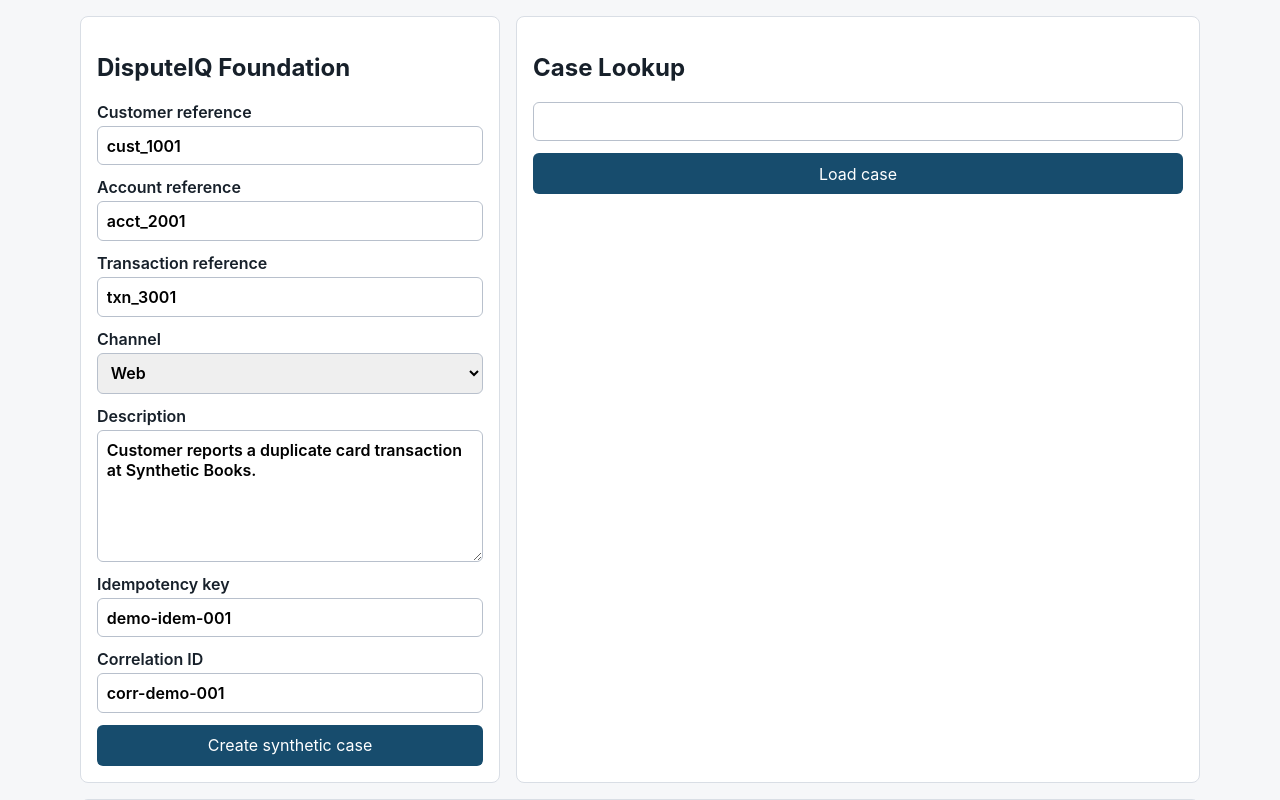
Scenario: validates required fields before submit
Clear the field labelled "Transaction reference" at [290, 297], box x1=97 y1=277 x2=483 y2=317
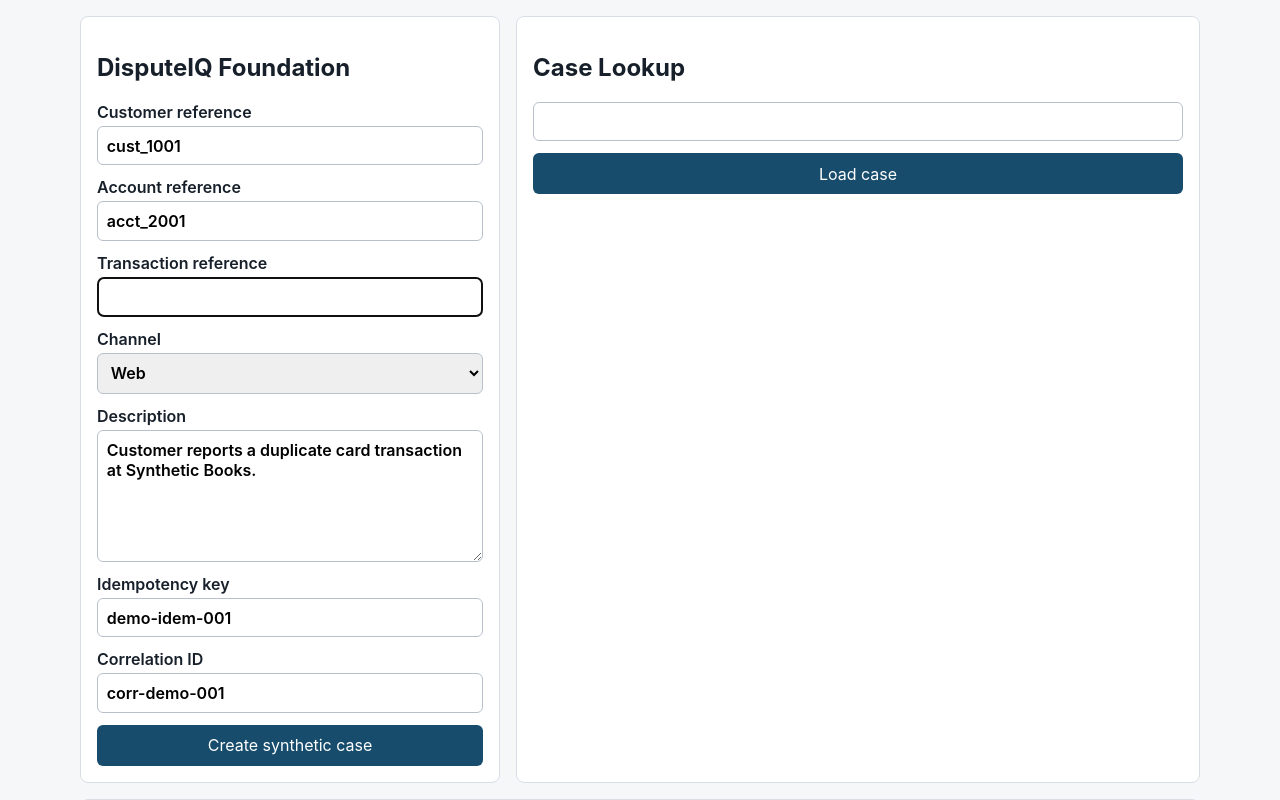
Click the button "Create synthetic case" at [290, 745], box x1=97 y1=725 x2=483 y2=766
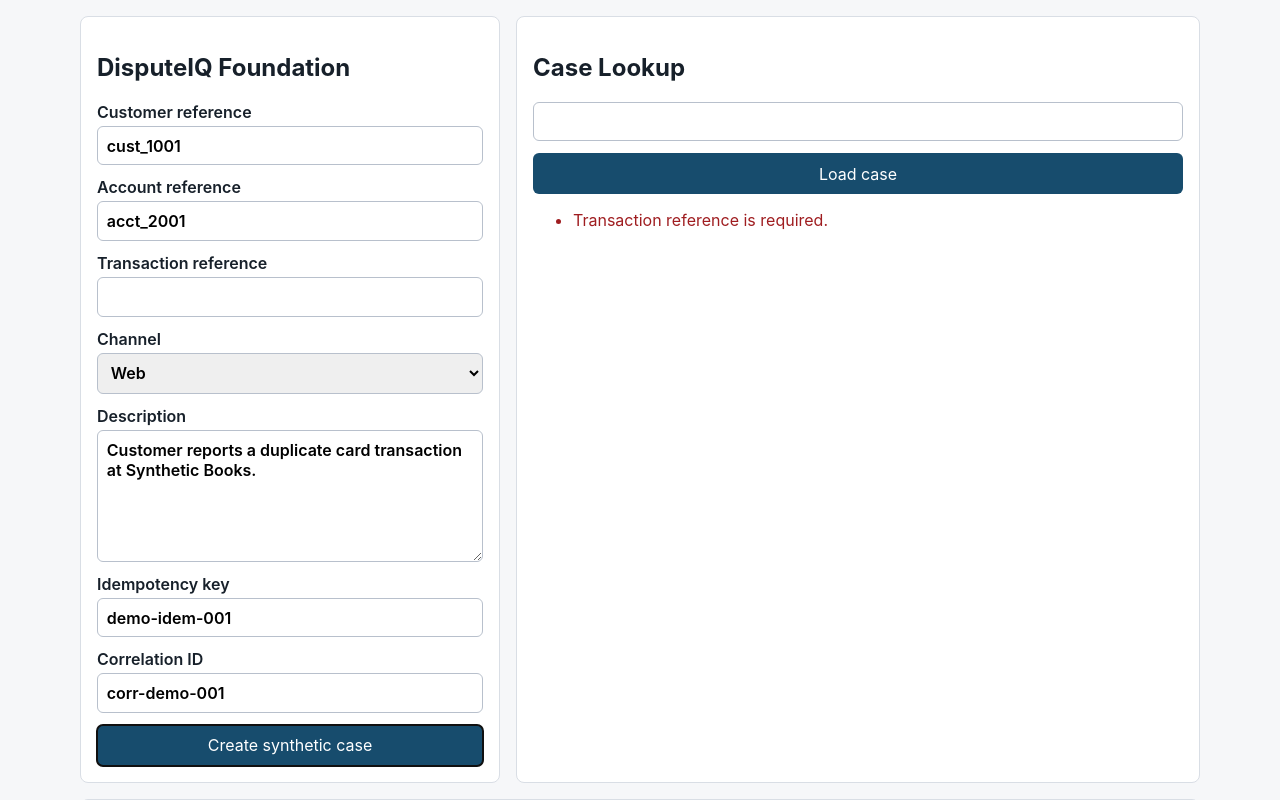
Result: the message reads "Transaction reference is required." at x1=573 y1=210 x2=828 y2=230
